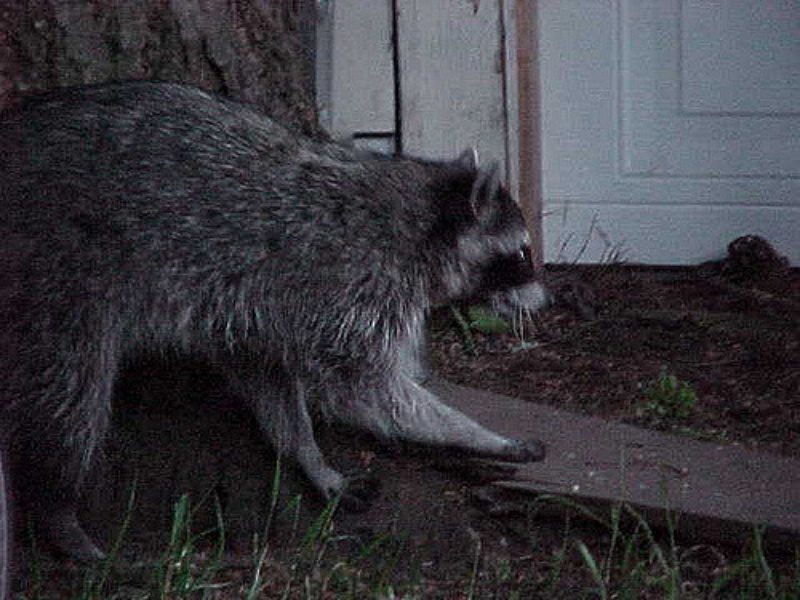raccoon: (1, 63, 562, 561)
